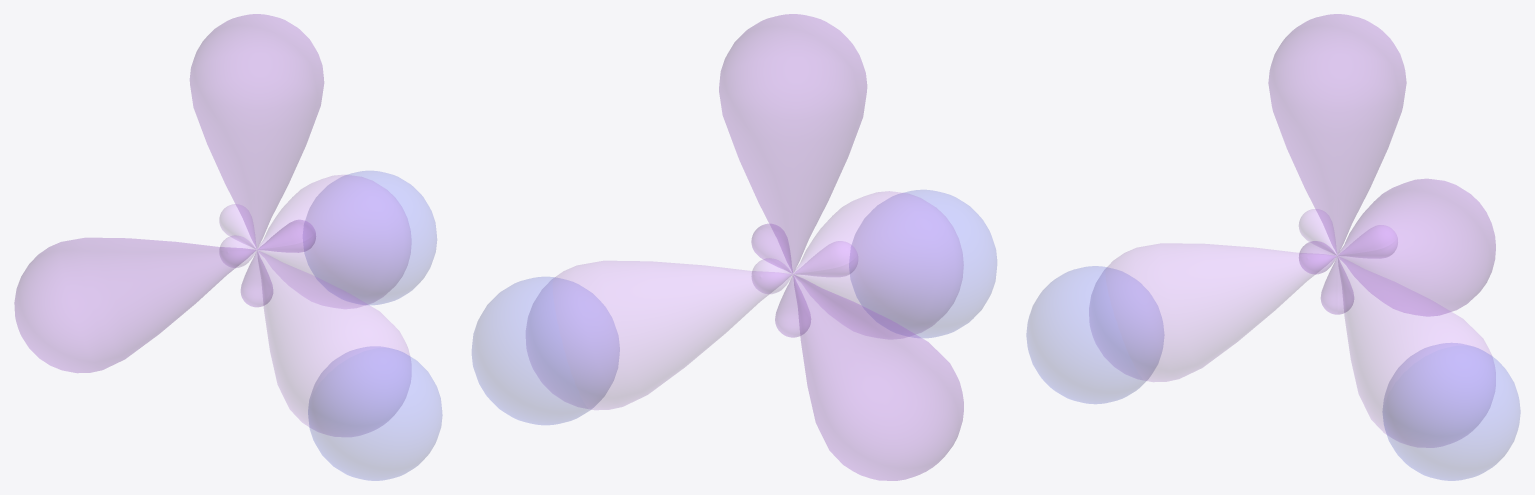
The model's file is s054_4.04_voda.glb.
The picture shows the model from 3 angles, left to right: view 1: azimuth 30°, elevation 25°; view 2: azimuth 150°, elevation 25°; view 3: azimuth 270°, elevation 25°; orthographic projection. The views are drawn at different scales.
Visible parts, largest first — view 1: hybrid.008_Sphere, hybrid_Sphere, hybrid.006_Sphere, hybrid.007_Sphere, Sphere_Sphere.001, Sphere_Sphere.002; view 2: hybrid.007_Sphere, hybrid_Sphere, hybrid.008_Sphere, hybrid.006_Sphere, Sphere_Sphere.002, Sphere_Sphere.001; view 3: hybrid.006_Sphere, hybrid_Sphere, hybrid.007_Sphere, hybrid.008_Sphere, Sphere_Sphere.001, Sphere_Sphere.002.
Part boxes in pixels (bbox=[...]): hybrid.008_Sphere: bbox=[14, 220, 315, 372]; hybrid_Sphere: bbox=[190, 14, 323, 306]; hybrid.006_Sphere: bbox=[219, 204, 410, 436]; hybrid.007_Sphere: bbox=[219, 175, 410, 308]; Sphere_Sphere.001: bbox=[308, 347, 442, 480]; Sphere_Sphere.002: bbox=[305, 171, 436, 304]; hybrid.007_Sphere: bbox=[526, 241, 857, 409]; hybrid_Sphere: bbox=[719, 14, 866, 337]; hybrid.008_Sphere: bbox=[751, 224, 963, 480]; hybrid.006_Sphere: bbox=[752, 191, 963, 338]; Sphere_Sphere.002: bbox=[472, 277, 619, 424]; Sphere_Sphere.001: bbox=[850, 190, 996, 337]; hybrid.006_Sphere: bbox=[1089, 225, 1397, 381]; hybrid_Sphere: bbox=[1268, 14, 1406, 314]; hybrid.007_Sphere: bbox=[1299, 209, 1495, 447]; hybrid.008_Sphere: bbox=[1299, 179, 1495, 316]; Sphere_Sphere.001: bbox=[1026, 266, 1163, 403]; Sphere_Sphere.002: bbox=[1383, 343, 1520, 480].
Bounding box in the file's own units: 7.13 × 6.02 × 7.15.
